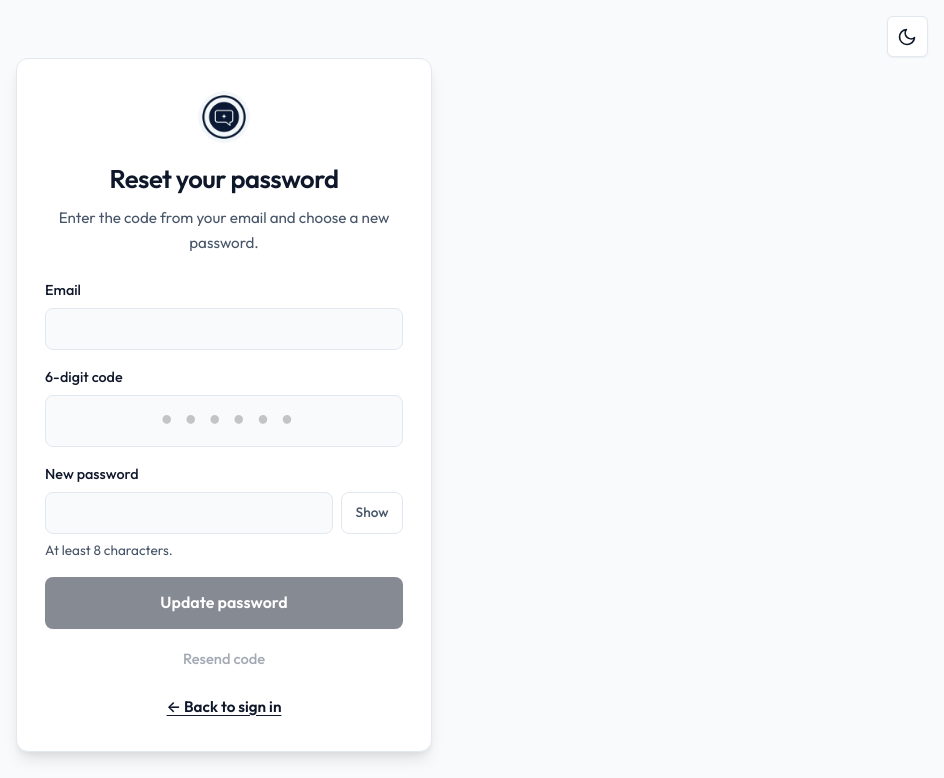
Test: forgot and reset password › resets the password and returns to sign-in with a confirmation
This screenshot has width=944, height=778.
Type "a@example.com" into the field labelled "Email" at (224, 329), box [45,308,403,350]
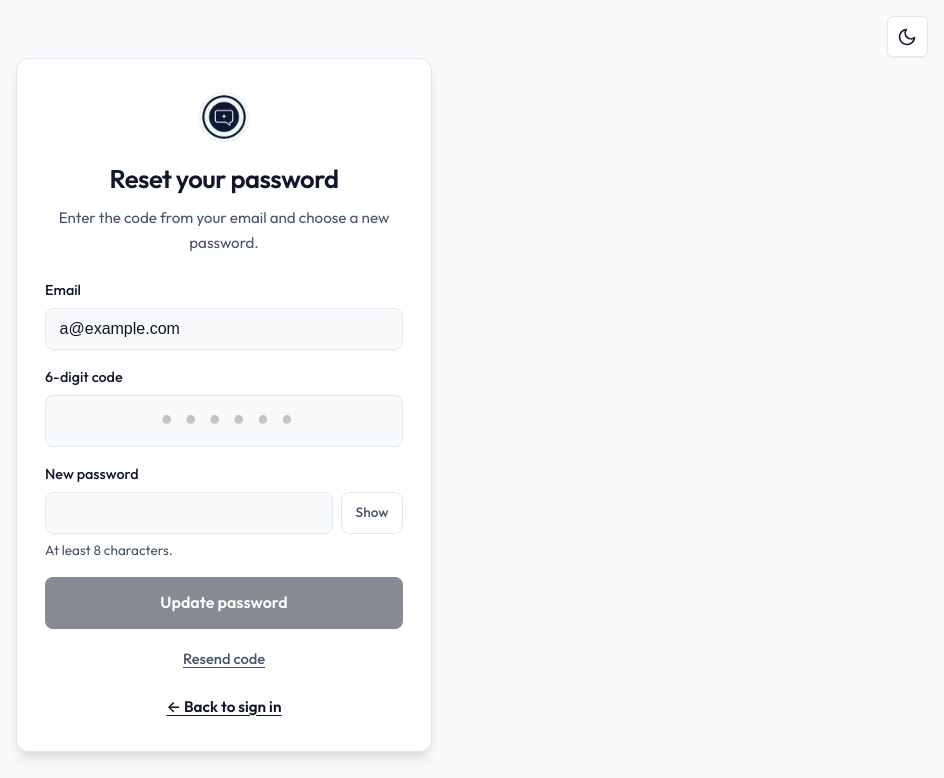
Type "654321" into the field labelled "6-digit code" at (224, 421), box [45,395,403,447]
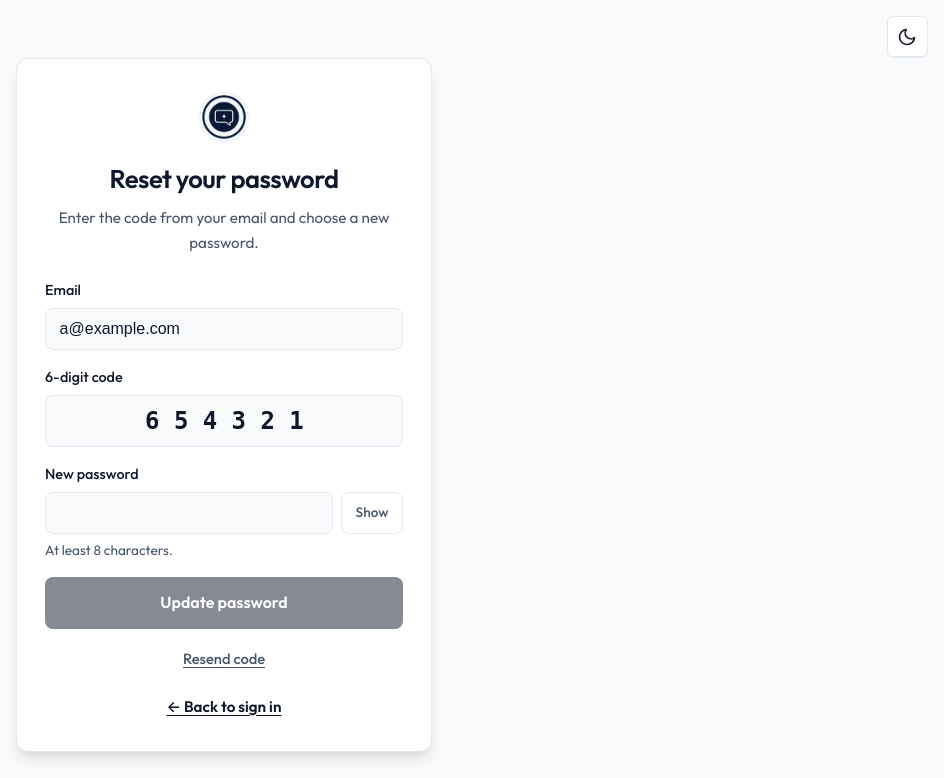
Type "short" into the password field labelled "New password" at (189, 513), box [45,492,333,534]
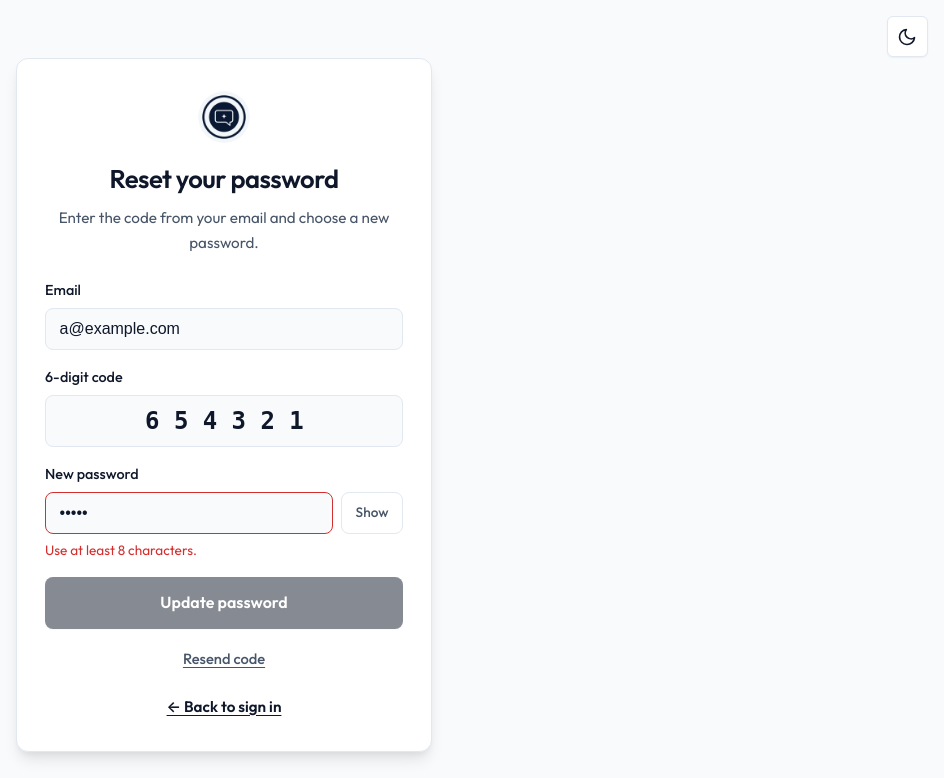
expect the button "Update password" is disabled: met, box [45,578,403,629]
expect the text "Use at least 8 characters." is shown: met, box [45,541,197,559]
Type "brand-new-pass-9" into the password field labelled "New password" at (189, 513), box [45,492,333,534]
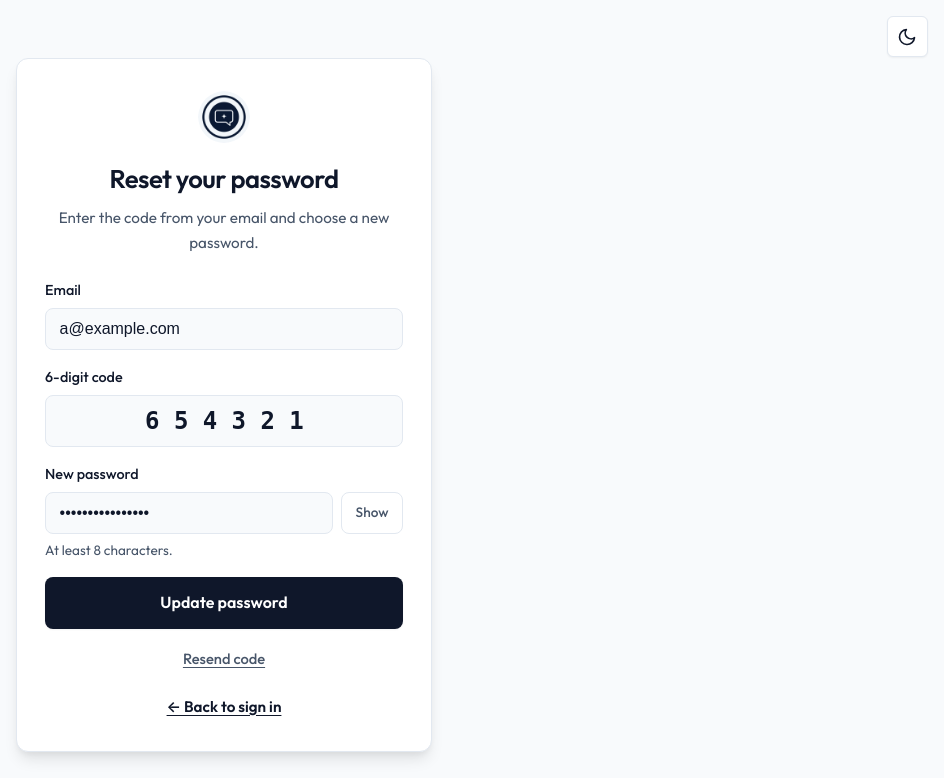
Click the button "Update password" at (224, 603), box [45,578,403,629]
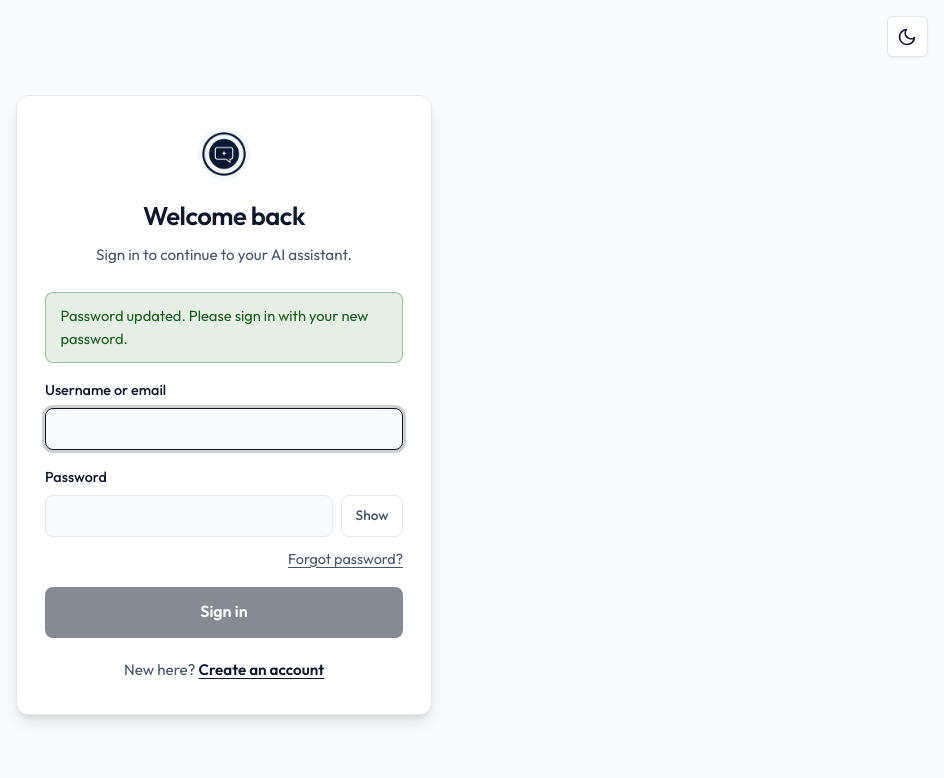
expect the text "Password updated. Please sign in with your new password." is shown: met, box [45,292,403,363]
